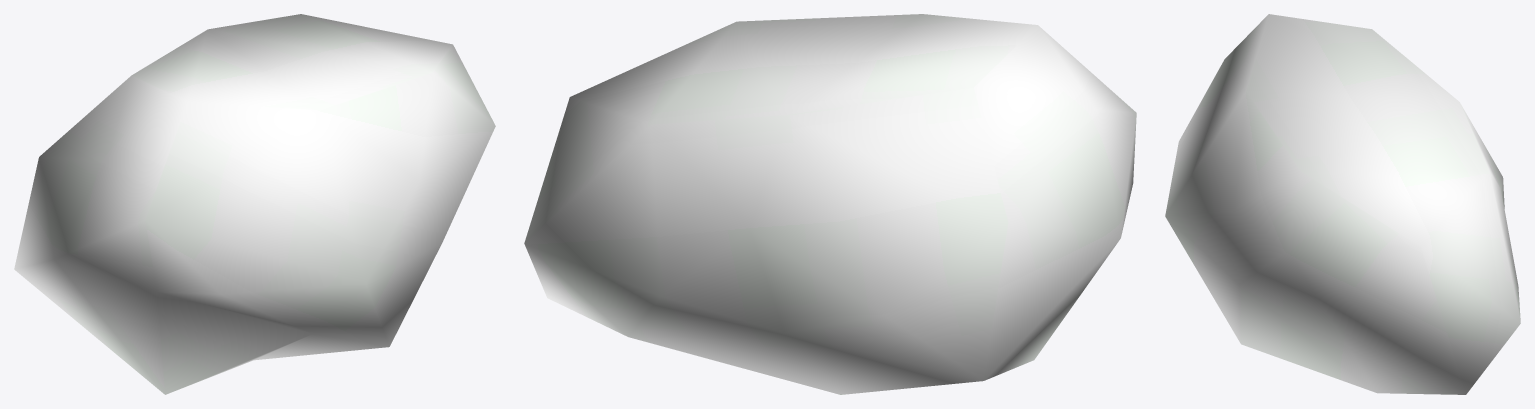
Rendered from SNAPPER_GIANTROCK.glb.
The picture shows the model from 3 angles, left to right: view 1: azimuth 30°, elevation 25°; view 2: azimuth 150°, elevation 25°; view 3: azimuth 270°, elevation 25°; orthographic projection. The views are drawn at different scales.
Parts seen in each view (by area): view 1: Mesh; view 2: Mesh; view 3: Mesh.
Boxes of the visible parts, x1,y1,x2,y2 form: Mesh: (14,14,495,394); Mesh: (524,14,1136,394); Mesh: (1165,14,1520,394).
Size of the model in its own units: 6.94 by 4.36 by 5.25.
1 material, 1 textured.
